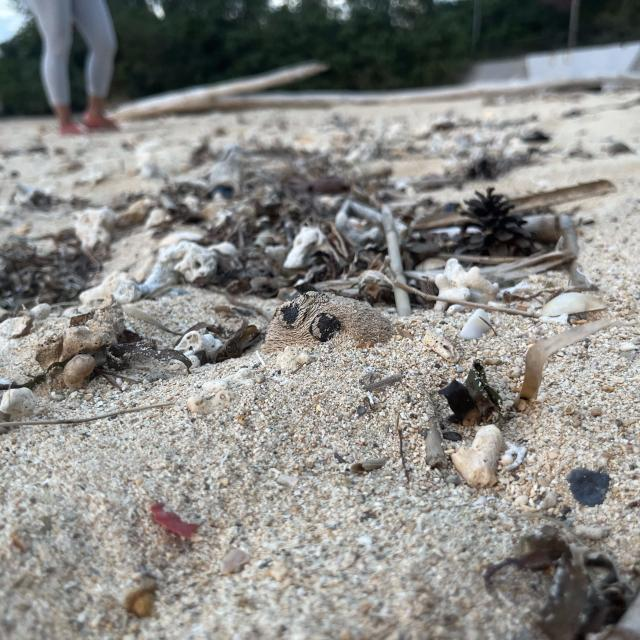coral: (433, 418, 524, 494), (428, 259, 482, 310)
pinecone: (452, 185, 543, 270)
seaweed: (156, 149, 446, 314)
trash: (139, 492, 206, 547)
